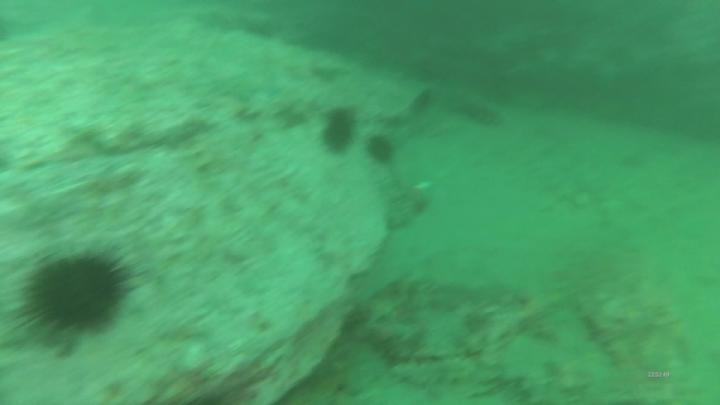echinus: (32, 261, 123, 329), (325, 120, 353, 150), (368, 139, 394, 161)
holothurian: (391, 362, 476, 386)
